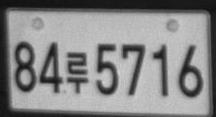1: (150, 43, 175, 97)
4: (38, 41, 64, 93)
5: (94, 42, 118, 96)
6: (178, 44, 204, 98)
7: (121, 42, 146, 96)
8: (13, 40, 37, 92)
루: (65, 50, 89, 93)
